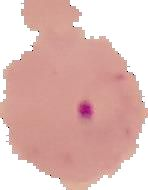parasitized: (76, 59, 148, 142)
